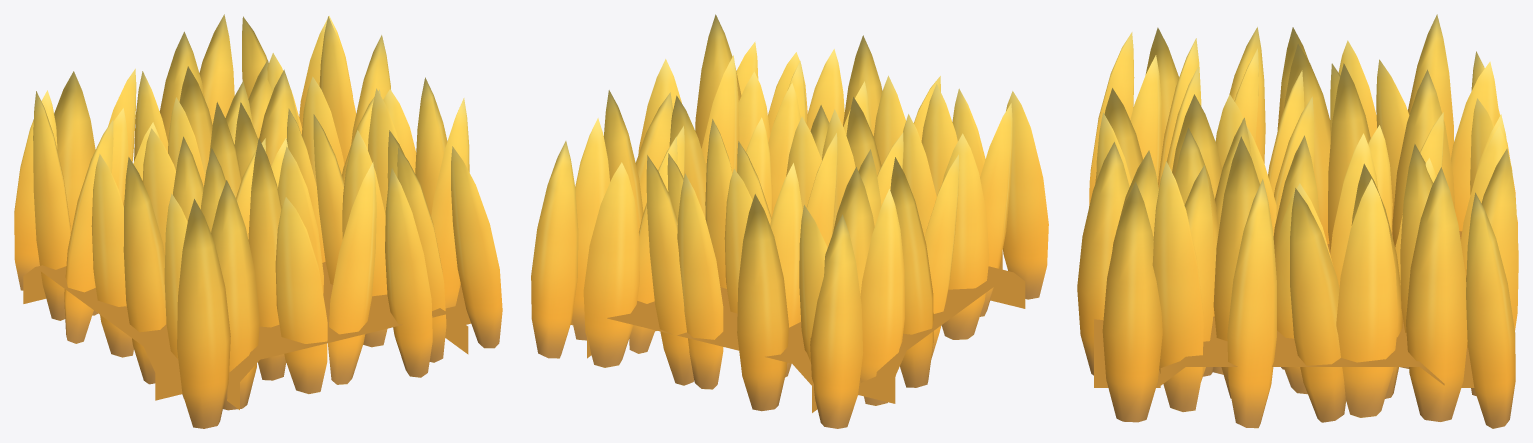
The model's file is grass_cross.glb.
3 renders of one model, left to right at view 1: azimuth 30°, elevation 25°; view 2: azimuth 150°, elevation 25°; view 3: azimuth 270°, elevation 25°, orthographic. The views are drawn at different scales.
Visible parts, largest first — view 1: grass_cross; view 2: grass_cross; view 3: grass_cross.
Part boxes in pixels (x1=…): grass_cross: x1=14, y1=14, x2=502, y2=428; grass_cross: x1=531, y1=14, x2=1048, y2=428; grass_cross: x1=1077, y1=14, x2=1518, y2=428.
Size of the model in its own units: 1.04 by 0.6751 by 1.06.
Materials: 1 (1 with a texture image).
